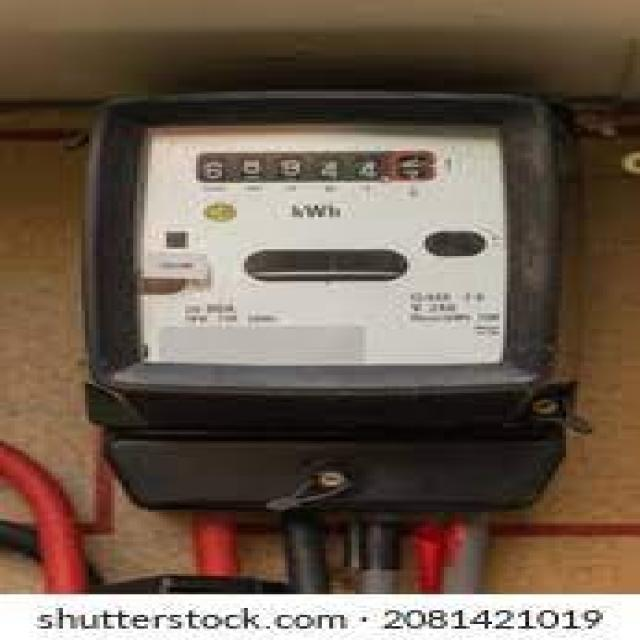4: (313, 156, 344, 181)
6: (199, 154, 229, 180)
9: (278, 157, 308, 178)
analog meter: (190, 149, 444, 184)
